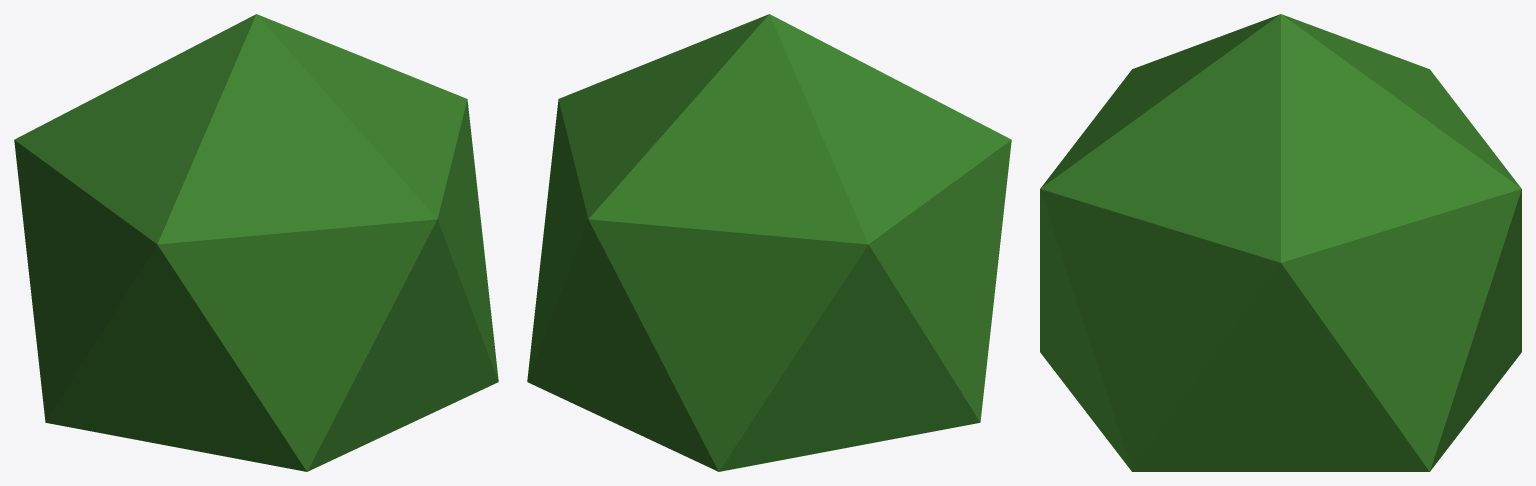
File: bush.fbx
3 renders of one model, left to right at view 1: azimuth 30°, elevation 25°; view 2: azimuth 150°, elevation 25°; view 3: azimuth 270°, elevation 25°, orthographic. The views are drawn at different scales.
Parts seen in each view (by area): view 1: Icosphere; view 2: Icosphere; view 3: Icosphere.
Part boxes in pixels (<box>): Icosphere: <box>14,14,498,471</box>; Icosphere: <box>527,14,1011,471</box>; Icosphere: <box>1040,14,1521,471</box>.
Size of the model in its own units: 104 by 87.7 by 99.27.
